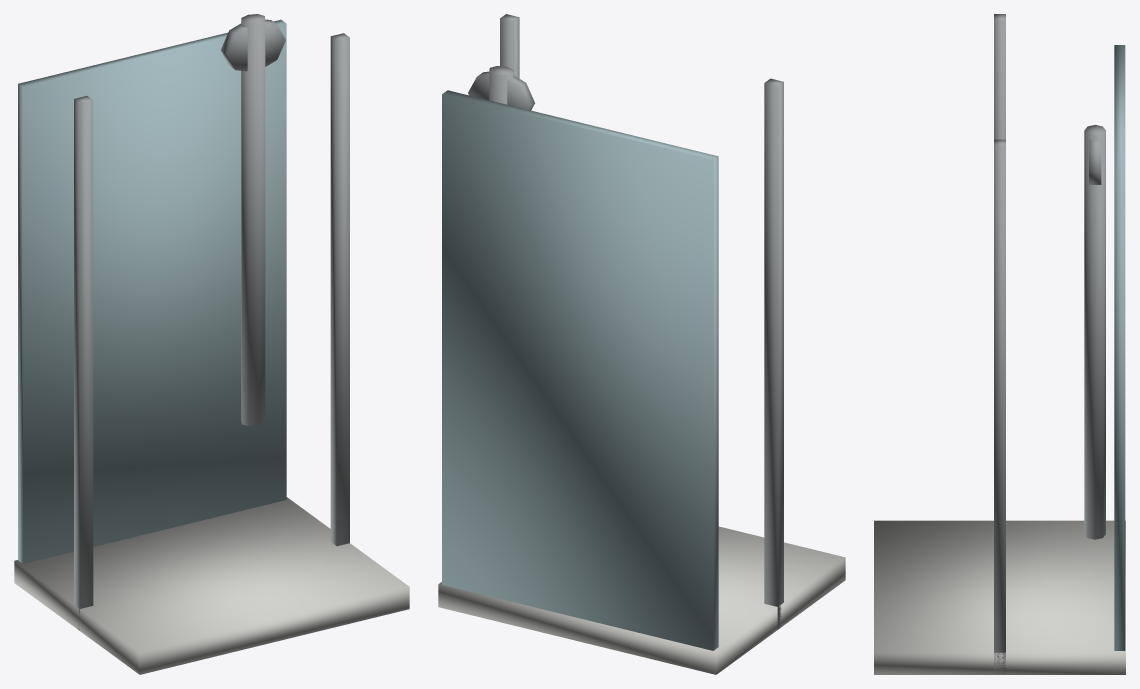
File: shower_stall__wide.glb
The picture shows the model from 3 angles, left to right: view 1: azimuth 30°, elevation 25°; view 2: azimuth 150°, elevation 25°; view 3: azimuth 270°, elevation 25°; orthographic projection. The views are drawn at different scales.
Visible parts, largest first — view 1: world; view 2: world; view 3: world.
Part boxes in pixels (left/top/right/bottom): world: left=14, top=14, right=409, bottom=674; world: left=438, top=14, right=845, bottom=674; world: left=874, top=14, right=1125, bottom=674.
Bounding box in the file's own units: 1.02 × 1.9 × 0.82.
